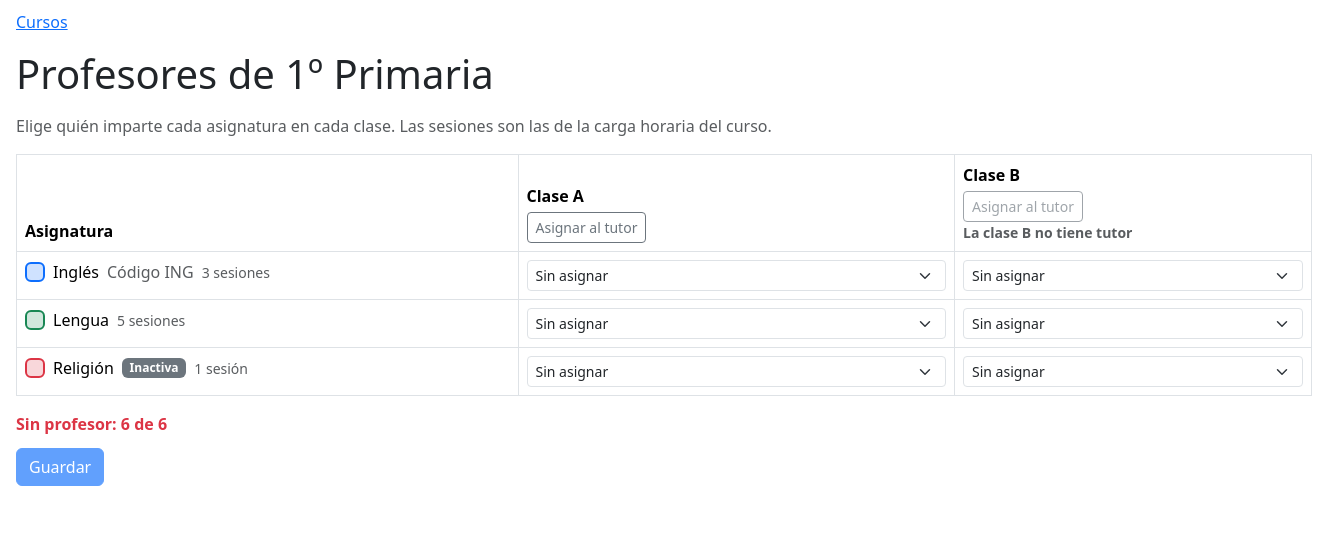
Test: CourseAssignmentsPage › saving › enables saving only while the matrix differs from the saved one
expect the heading "Profesores de 1º Primaria" is shown: met, box [16,46,494,101]
expect the table is shown: met, box [16,154,1312,396]
Select "García, Ana · tutor/a de A" in the dropdown named "Profesor de Inglés en A" at (736, 276), box [526,260,946,291]
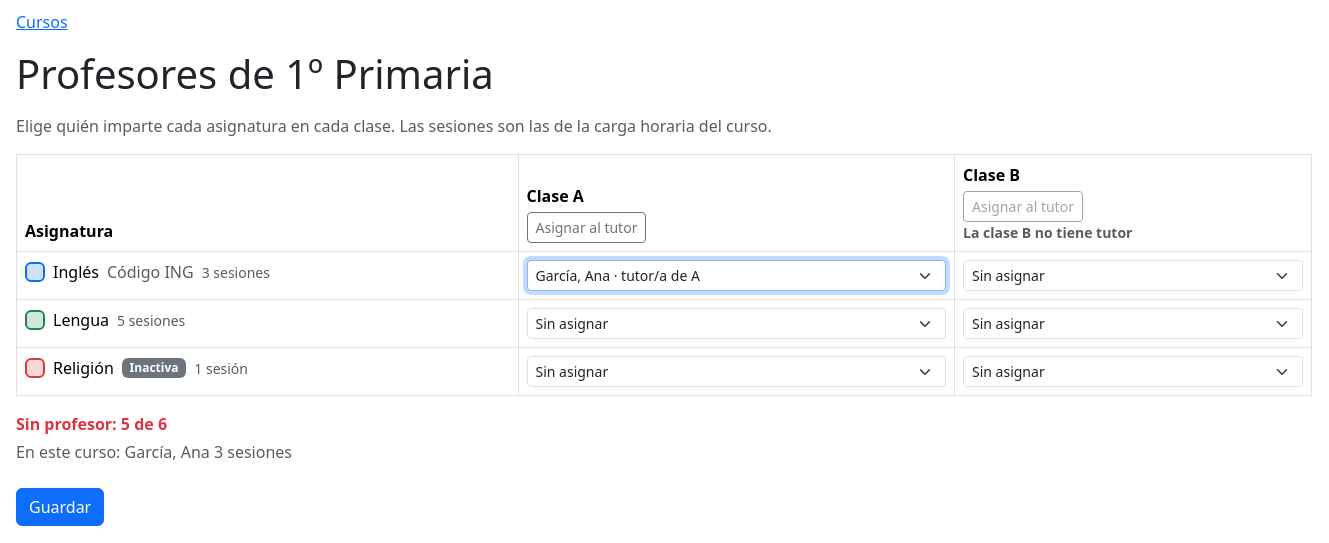
expect the button "Guardar" is enabled: met, box [16,488,104,526]
Select "Sin asignar" in the dropdown named "Profesor de Inglés en A" at (736, 276), box [526,260,946,291]
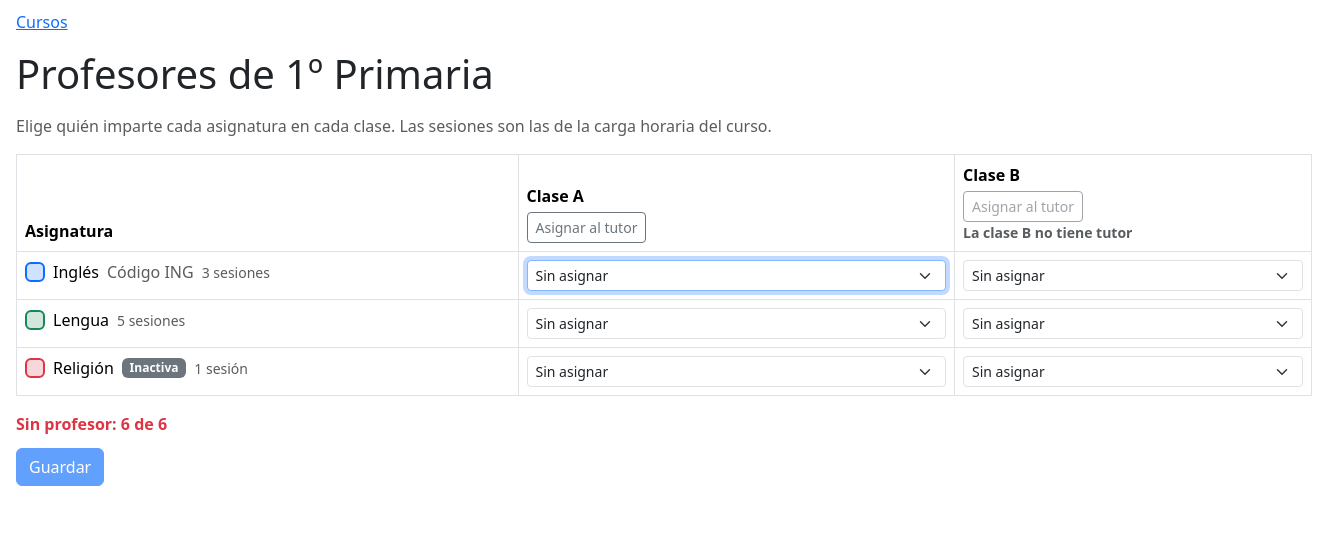
expect the button "Guardar" is disabled: met, box [16,448,104,486]
